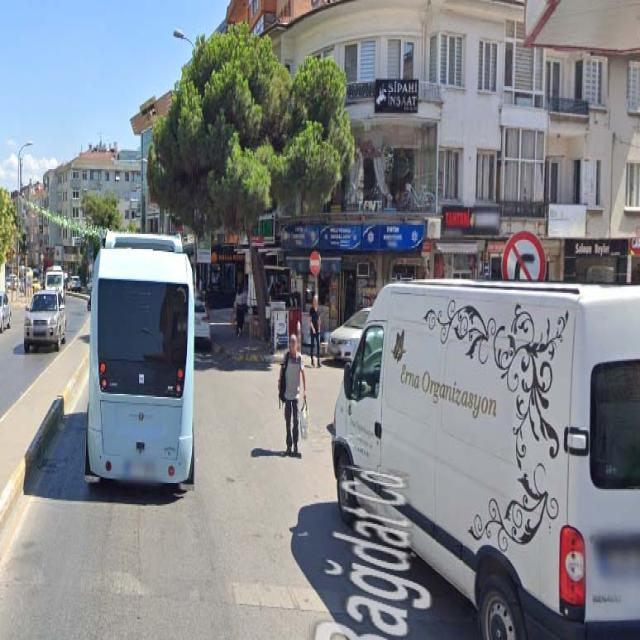girisyok: (308, 249, 322, 275)
sagadonulmez: (501, 231, 546, 296)
